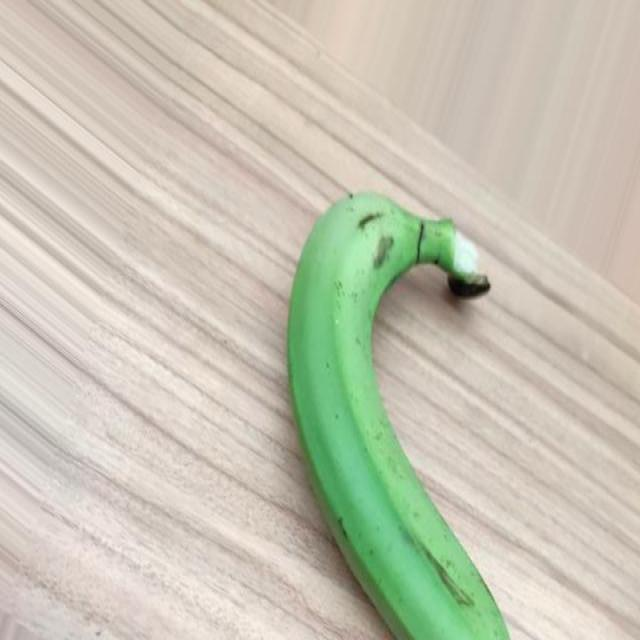Unripe: (286, 188, 513, 640)
